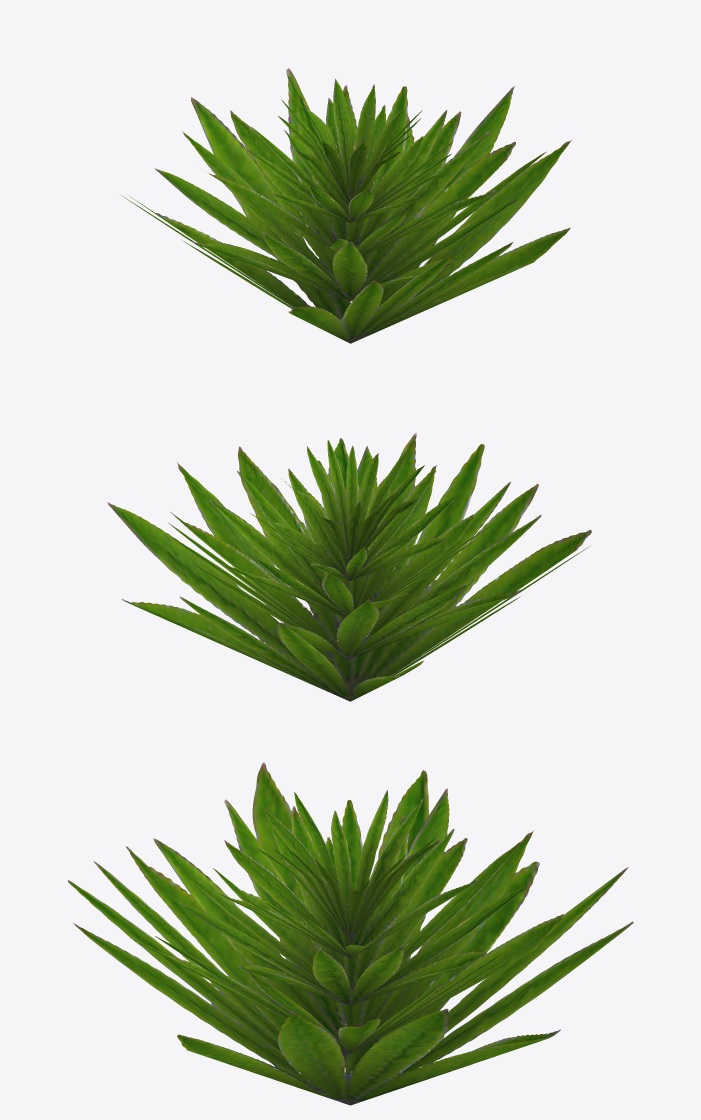
File: shrub_spikes.glb
3 renders of one model, top to bottom at view 1: azimuth 30°, elevation 25°; view 2: azimuth 150°, elevation 25°; view 3: azimuth 270°, elevation 25°, orthographic. The views are drawn at different scales.
Parts seen in each view (by area): view 1: shrub_spikes; view 2: shrub_spikes; view 3: shrub_spikes.
Boxes of the visible parts, x1,y1,x2,y2 form: shrub_spikes: (121, 68, 572, 343); shrub_spikes: (107, 432, 591, 701); shrub_spikes: (68, 762, 633, 1105).
Size of the model in its own units: 3.9 by 1.83 by 3.9.
Materials: 1 (1 with a texture image).
